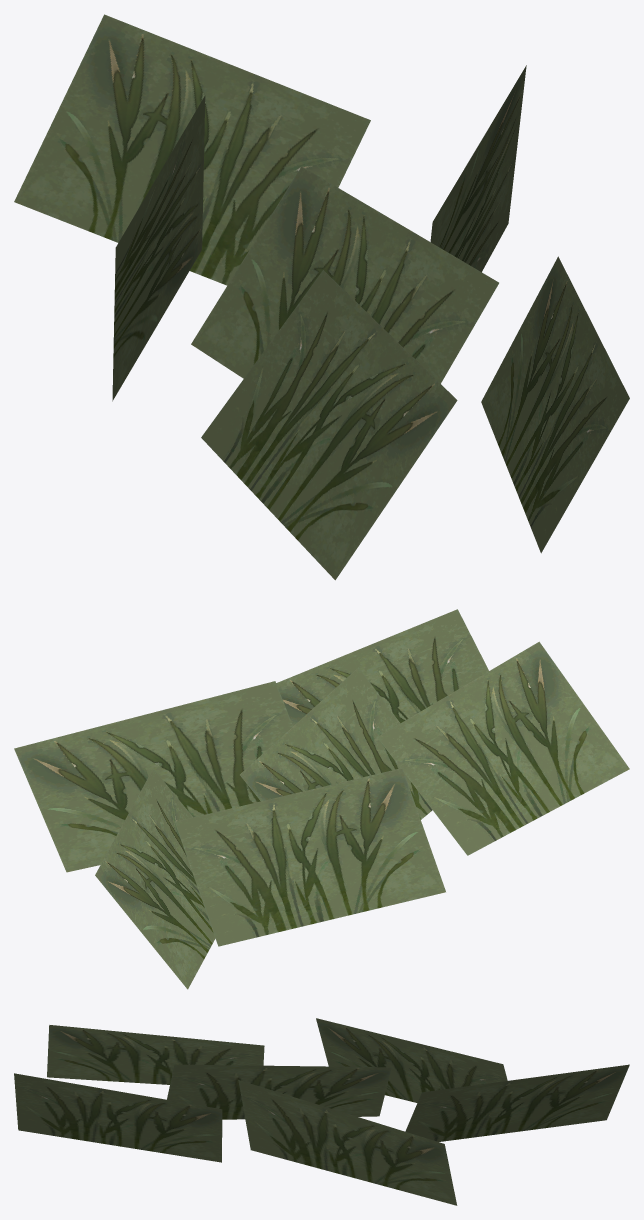
Rendered from map_forest_p_grass002.FBX.
3 renders of one model, top to bottom at view 1: azimuth 30°, elevation 25°; view 2: azimuth 150°, elevation 25°; view 3: azimuth 270°, elevation 25°, orthographic. The views are drawn at different scales.
Parts seen in each view (by area): view 1: map_forest_p_grass002; view 2: map_forest_p_grass002; view 3: map_forest_p_grass002.
Boxes of the visible parts, x1,y1,x2,y2 form: map_forest_p_grass002: (14,14,629,580); map_forest_p_grass002: (14,609,629,989); map_forest_p_grass002: (14,1018,629,1205).
Bounding box in the file's own units: 72.39 × 20.93 × 123.
